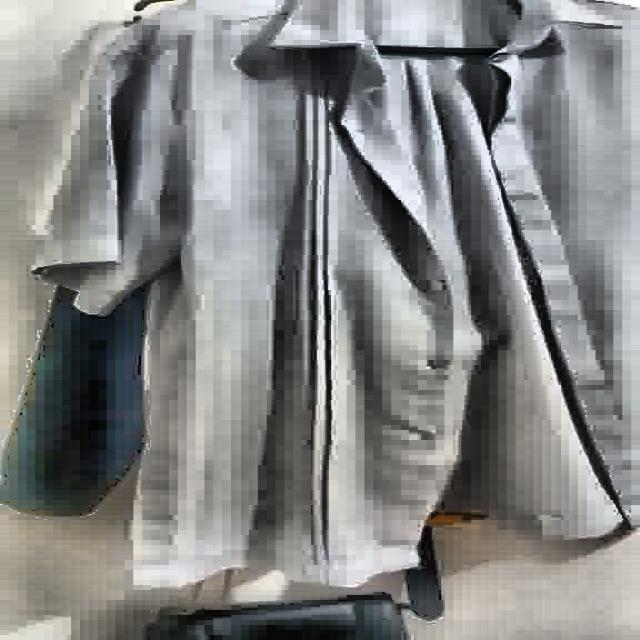clothes: (24, 8, 640, 592)
